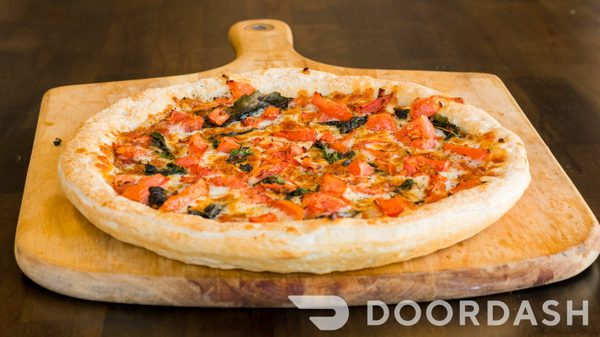curry: (1, 3, 579, 333)
sandwich: (59, 35, 561, 275)
